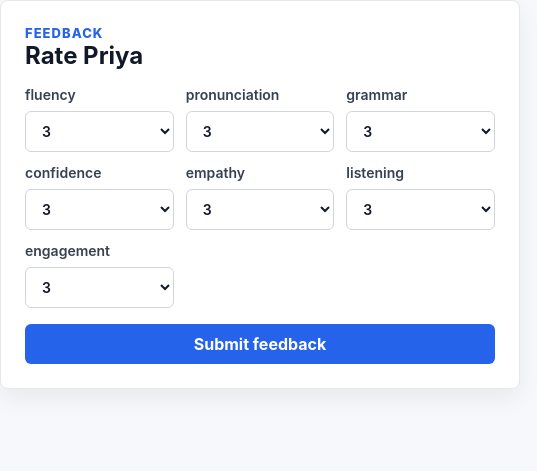
Scenario: FeedbackForm › submits the backend feedback DTO and shows success feedback
Select "5" in the dropdown labelled "fluency": [99, 132] box [25,111,174,152]
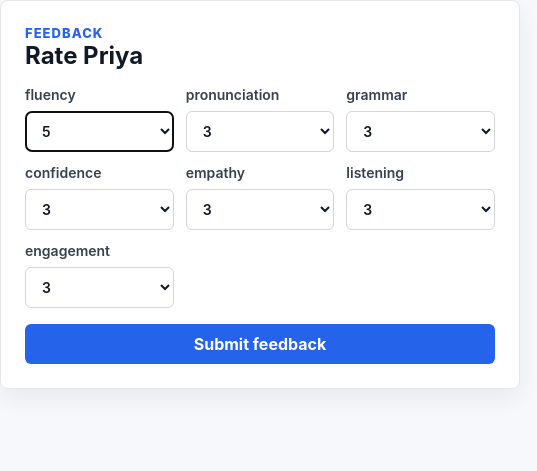
Select "4" in the dropdown labelled "grammar": [421, 132] box [346,111,495,152]
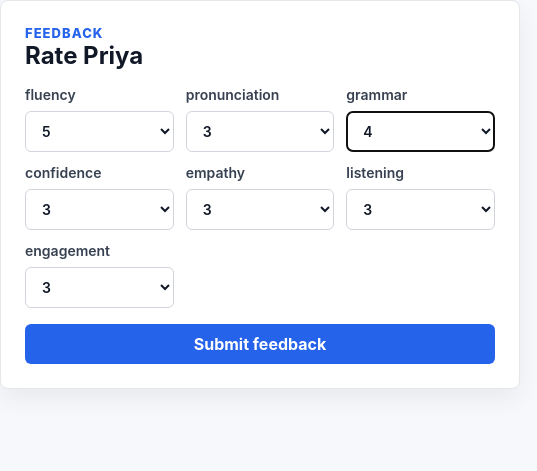
Click the button "Submit feedback": [260, 344] box [25,324,495,364]
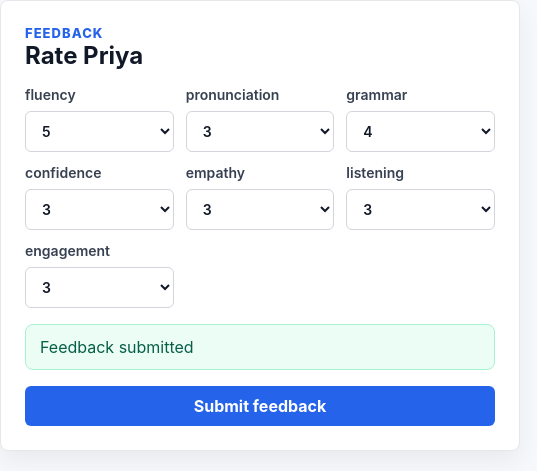
Result: the message reads "Feedback submitted" at [40,337,194,357]
